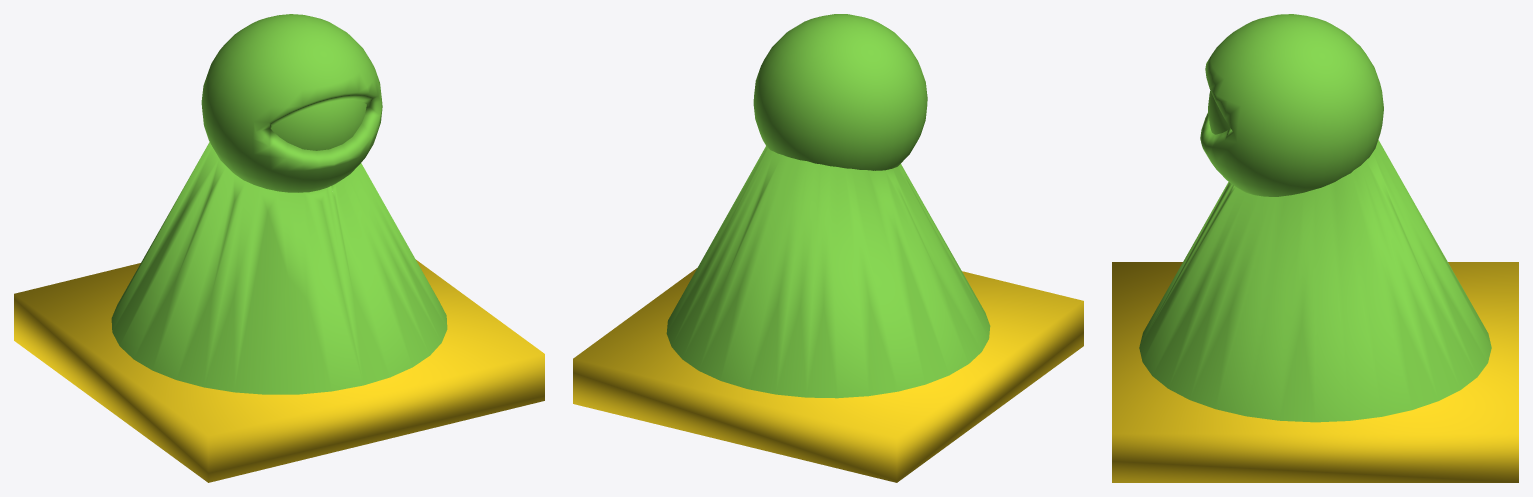
The model's file is baby_4.glb.
The picture shows the model from 3 angles, left to right: view 1: azimuth 30°, elevation 25°; view 2: azimuth 150°, elevation 25°; view 3: azimuth 270°, elevation 25°; orthographic projection. The views are drawn at different scales.
Visible parts, largest first — view 1: figura, basetta; view 2: figura, basetta; view 3: figura, basetta.
Boxes of the visible parts, bbox=[...] form: figura: bbox=[111, 14, 447, 394]; basetta: bbox=[14, 260, 544, 482]; figura: bbox=[666, 14, 990, 398]; basetta: bbox=[573, 268, 1083, 482]; figura: bbox=[1139, 14, 1491, 422]; basetta: bbox=[1112, 262, 1518, 482].
Bounding box in the file's own units: 0.015 × 0.0152 × 0.015.
